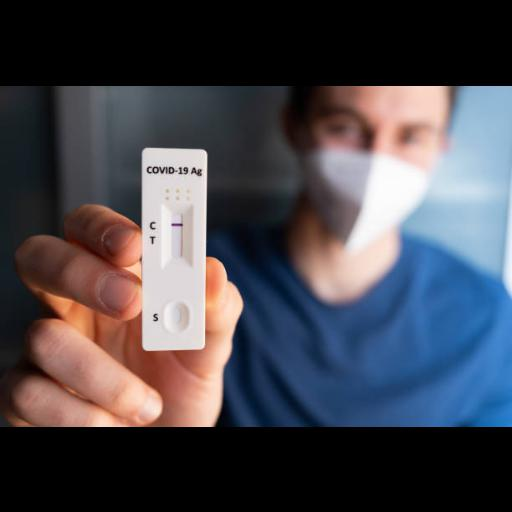Neg: (140, 148, 208, 346)
